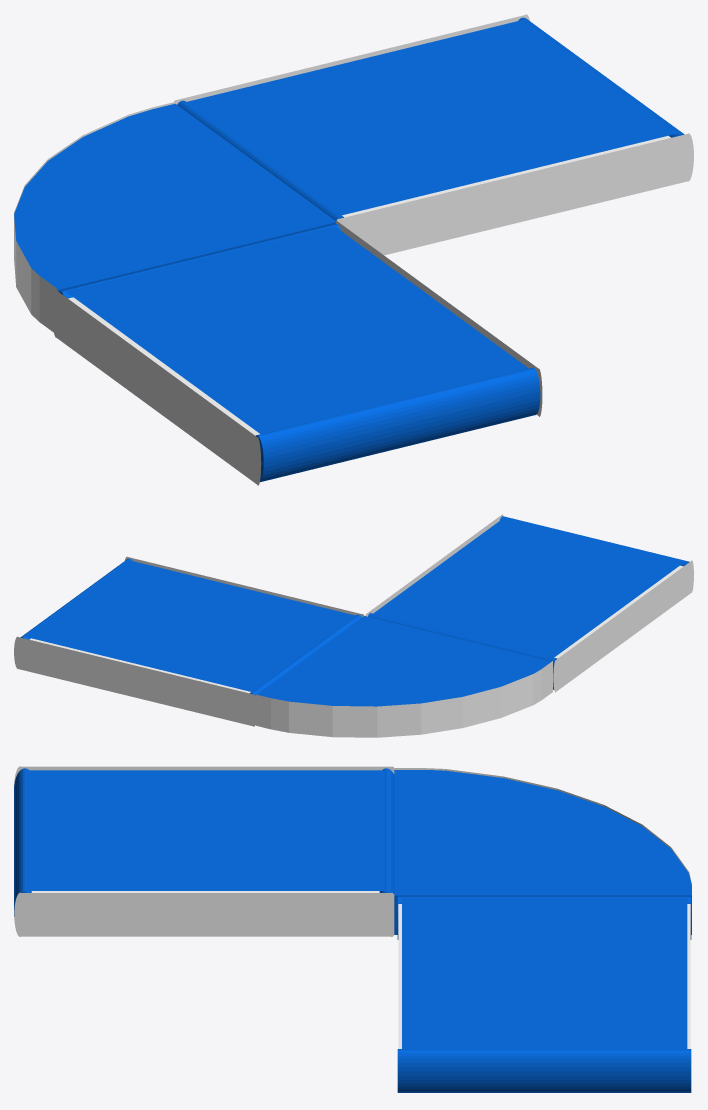
Rendered from cinta_curva.glb.
3 renders of one model, top to bottom at view 1: azimuth 30°, elevation 25°; view 2: azimuth 150°, elevation 25°; view 3: azimuth 270°, elevation 25°, orthographic. The views are drawn at different scales.
Visible parts, largest first — view 1: cinta_Unido.004, cinta_Unido.003, Cylinder.006; view 2: cinta_Unido.003, cinta_Unido.004, Cylinder.006; view 3: cinta_Unido.004, cinta_Unido.003, Cylinder.006.
Part boxes in pixels (box(x1,y1,x2,y2)): cinta_Unido.004: box(52, 221, 542, 485); cinta_Unido.003: box(174, 14, 693, 255); Cylinder.006: box(14, 102, 335, 332); cinta_Unido.003: box(14, 556, 364, 726); cinta_Unido.004: box(365, 514, 693, 692); Cylinder.006: box(255, 616, 552, 737); cinta_Unido.004: box(14, 766, 394, 936); cinta_Unido.003: box(397, 896, 691, 1092); Cylinder.006: box(394, 768, 691, 934).
Size of the model in its own units: 7.28 by 0.5251 by 7.28.
